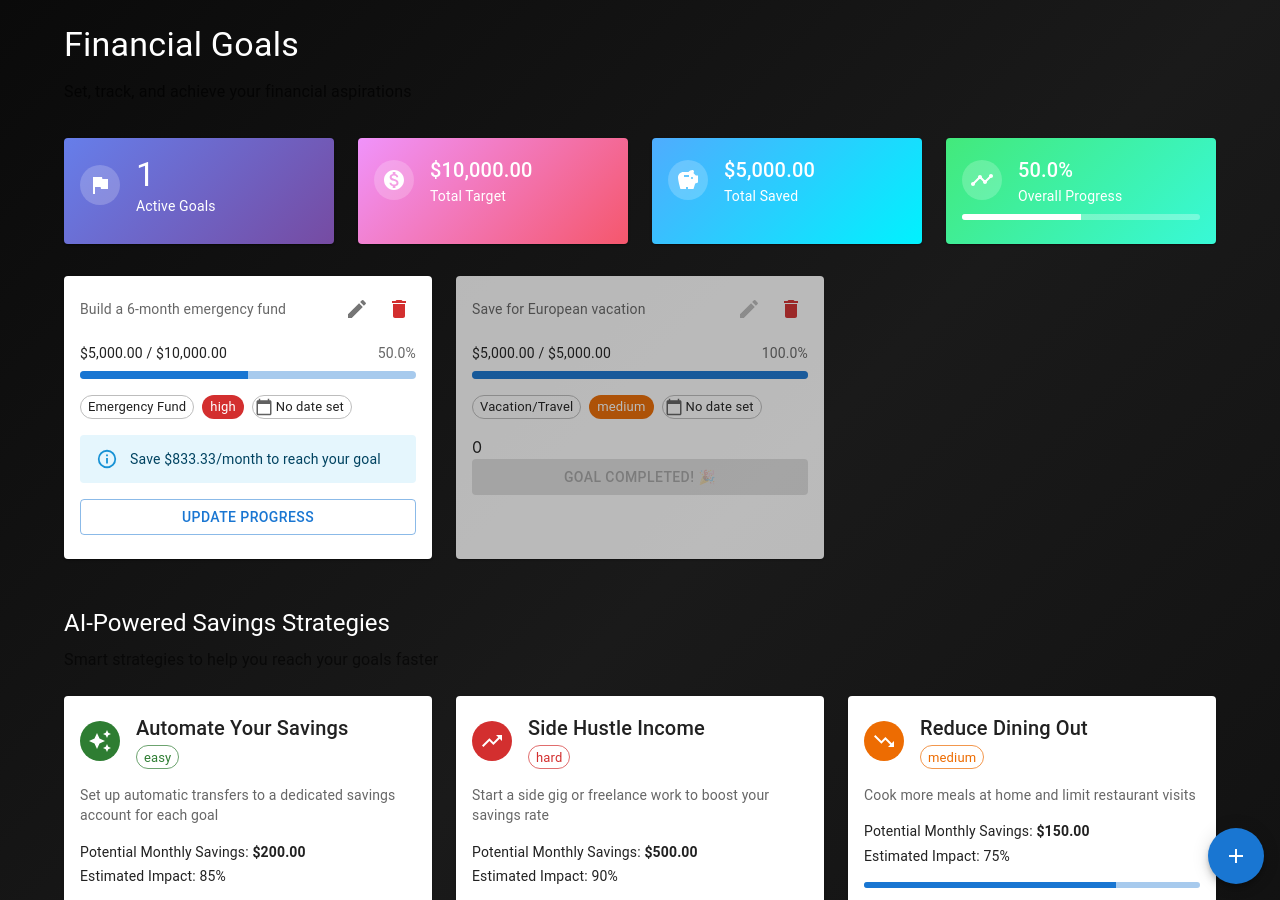
Test: Goals Page › Goal Management › should open create goal dialog when FAB is clicked
Expected: the text "Emergency Fund" is shown, [81,397,193,417]
Click the button named "add new goal".
click(1236, 856)  # box [1208,828,1264,884]
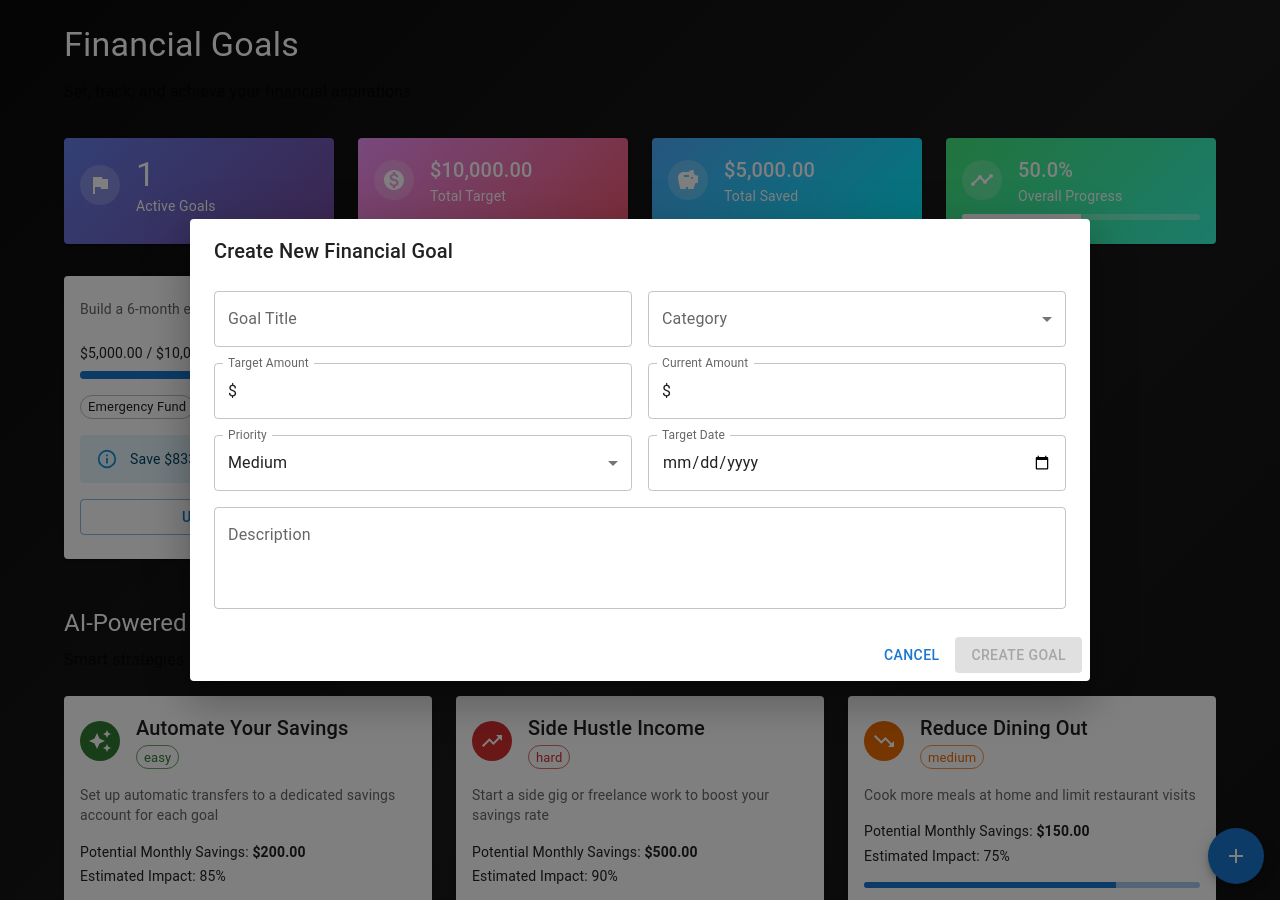
Result: the heading "Create New Financial Goal" is shown at [214,239,453,263]
Result: the field labelled "Goal Title" is shown at [214,291,632,347]
Result: the dropdown named "category" is shown at [648,291,1066,347]
